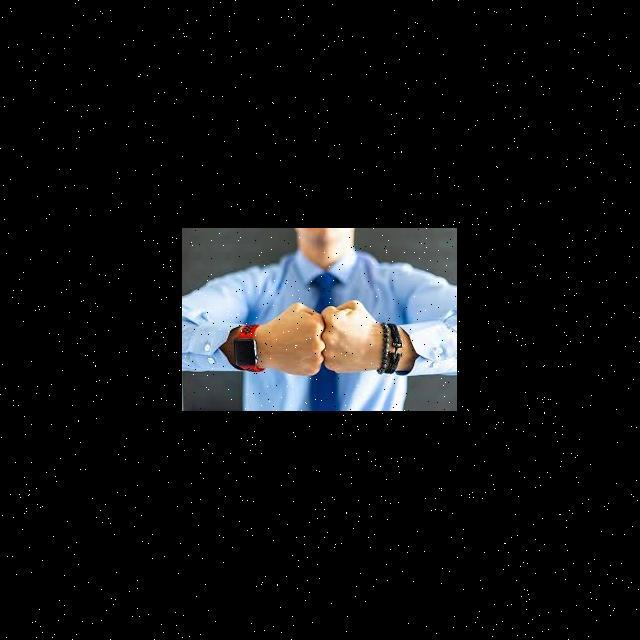watch: (227, 317, 263, 380)
